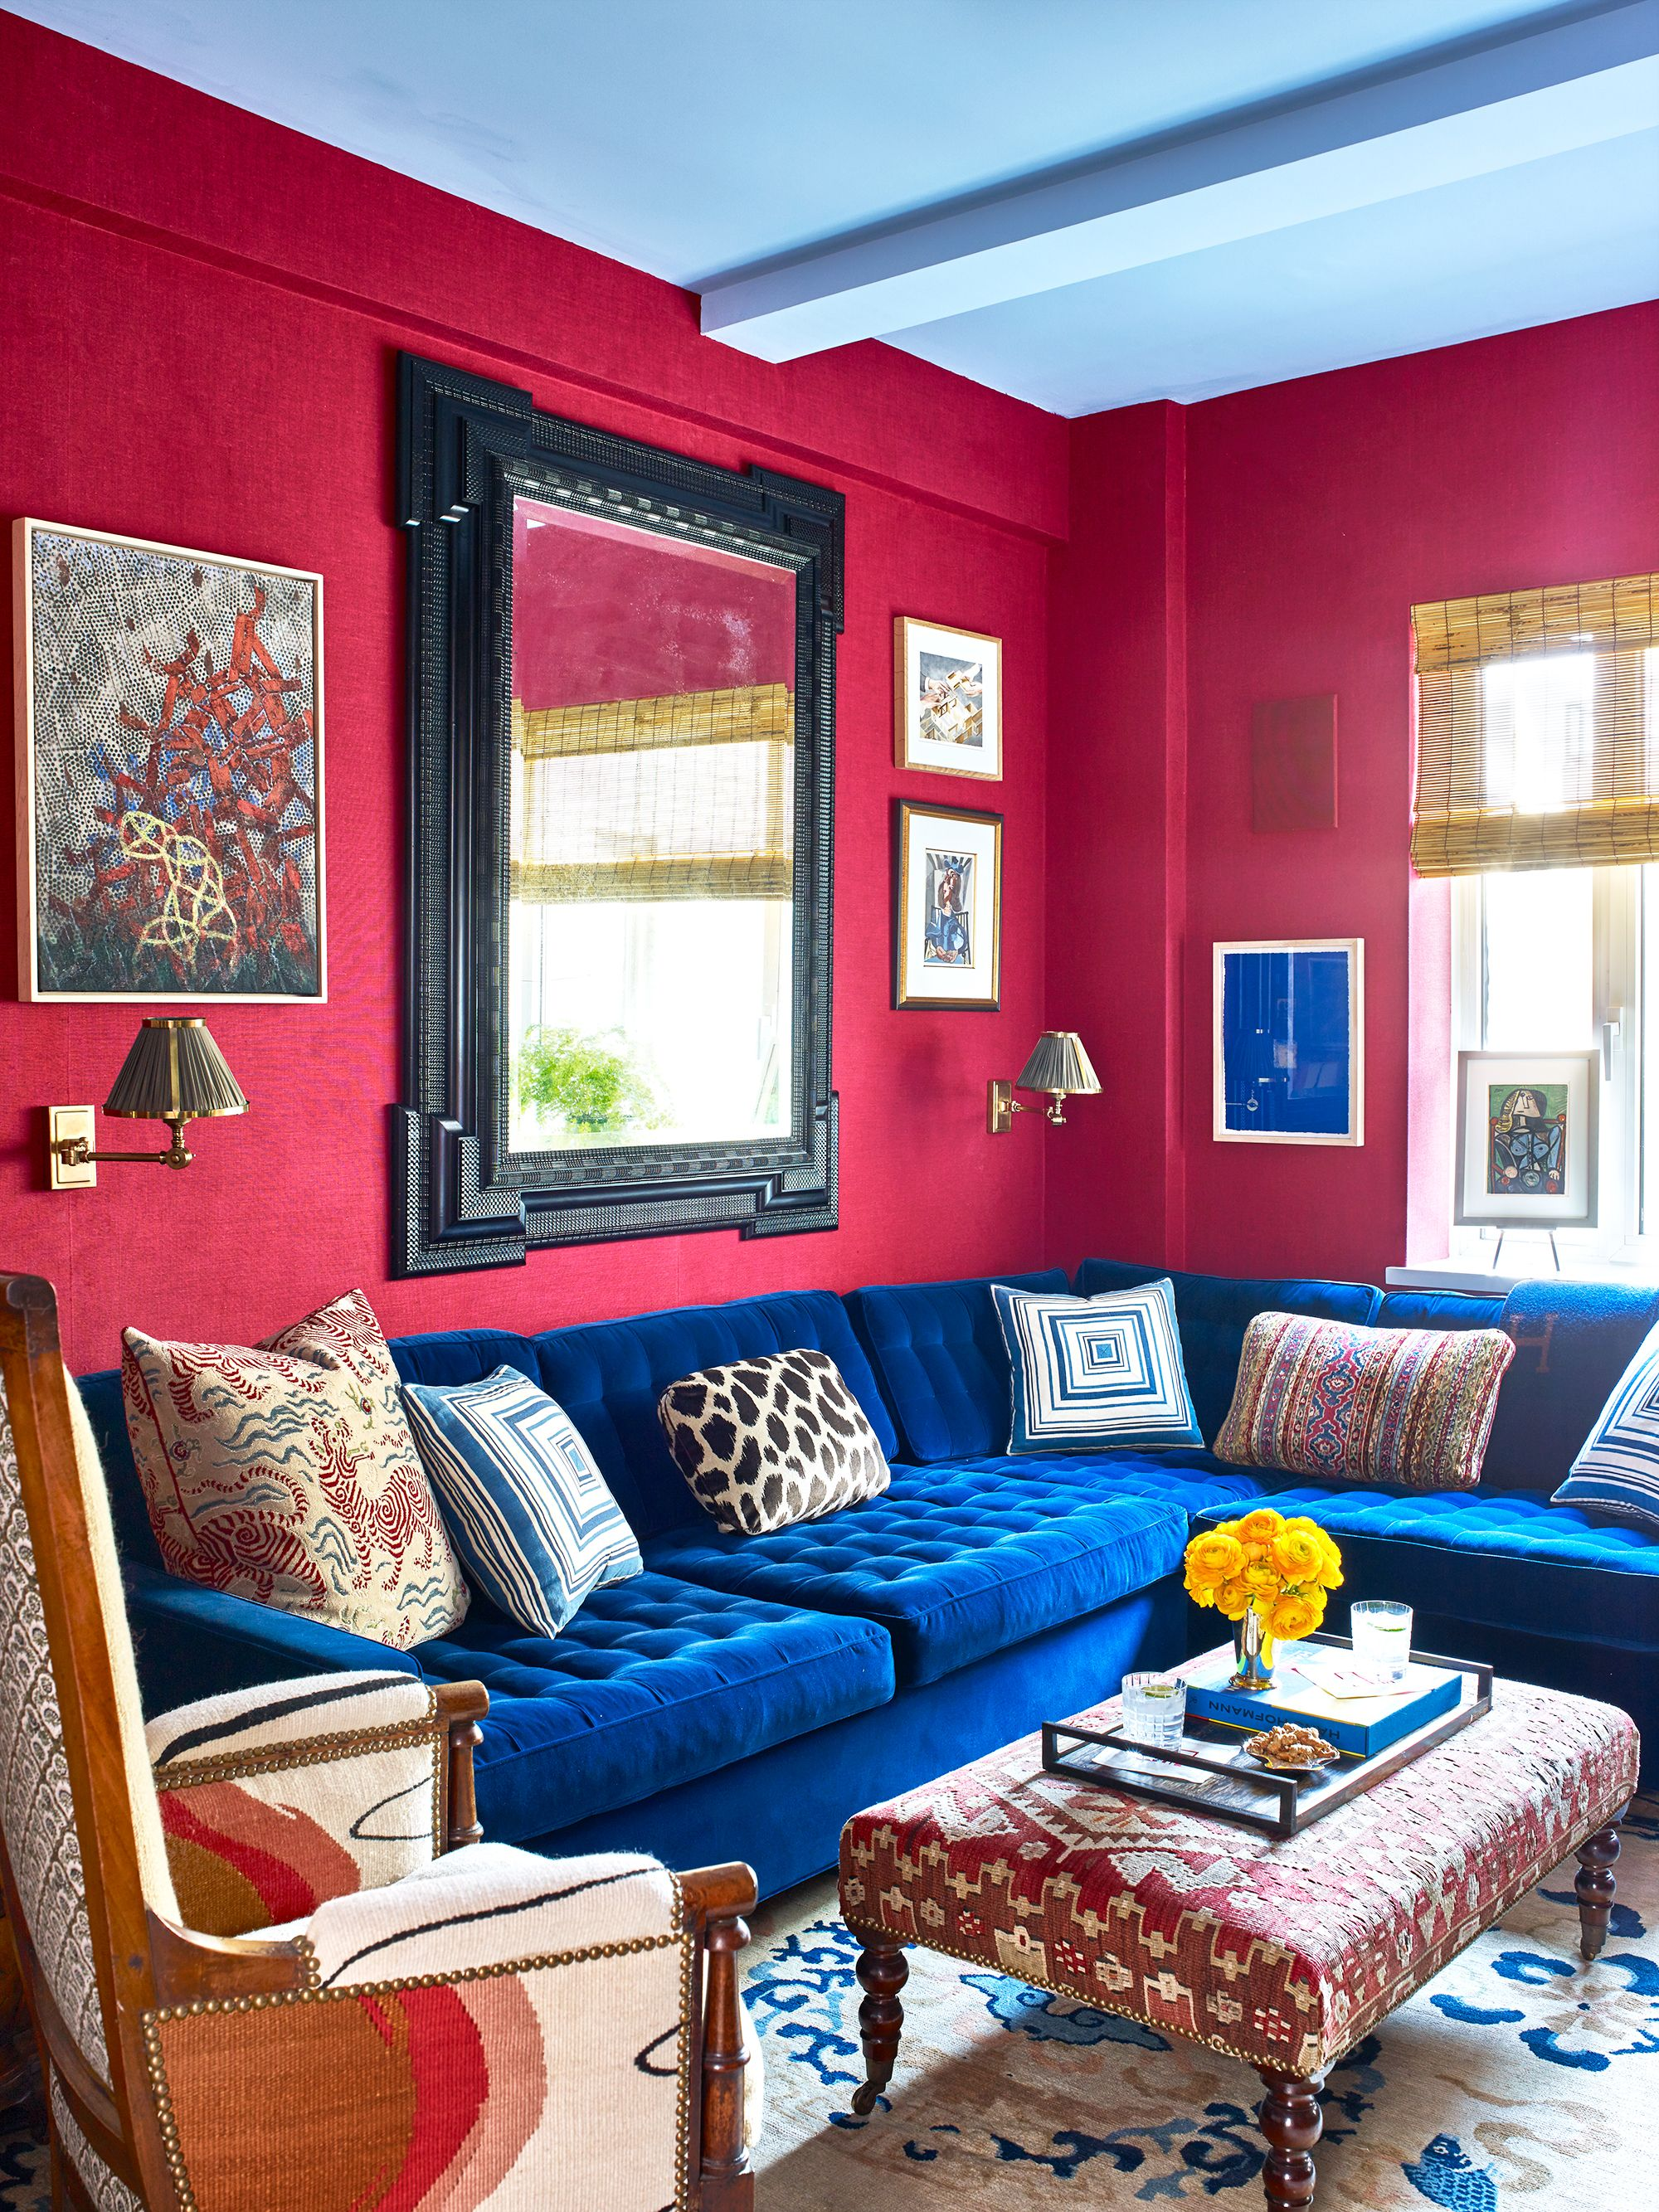biru: (648, 1289, 1079, 1733), (1223, 954, 1349, 1136)
kuning: (1182, 1514, 1349, 1648)
